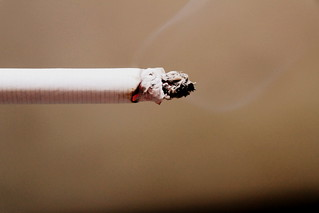cigarette: (0, 66, 198, 106)
